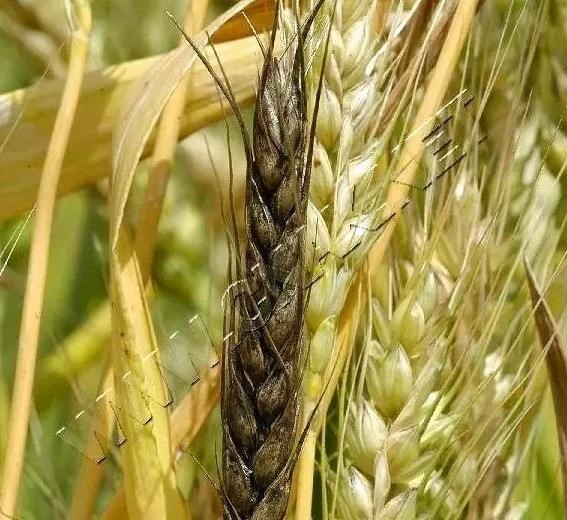Wheat Loose Smut: (199, 57, 326, 502)
